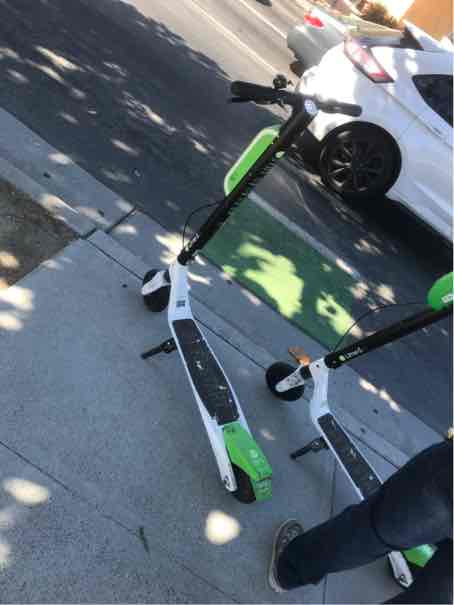scooter: (133, 68, 382, 527), (271, 249, 448, 596)
